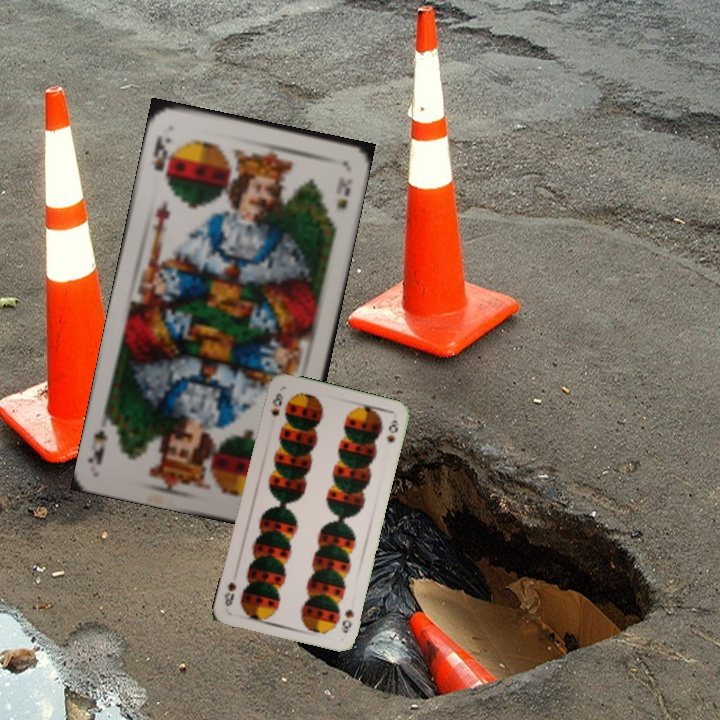S8: (338, 605, 357, 636), (266, 389, 285, 419)
SK: (146, 131, 175, 186)
